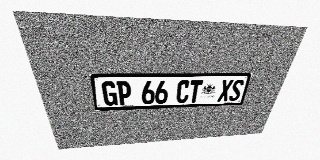6: (155, 80, 169, 104), (142, 81, 155, 104)
C: (176, 80, 191, 103)
G: (101, 81, 118, 106)
P: (116, 81, 132, 105)
S: (228, 79, 245, 101)
T: (188, 80, 203, 103)
X: (217, 80, 234, 102)
